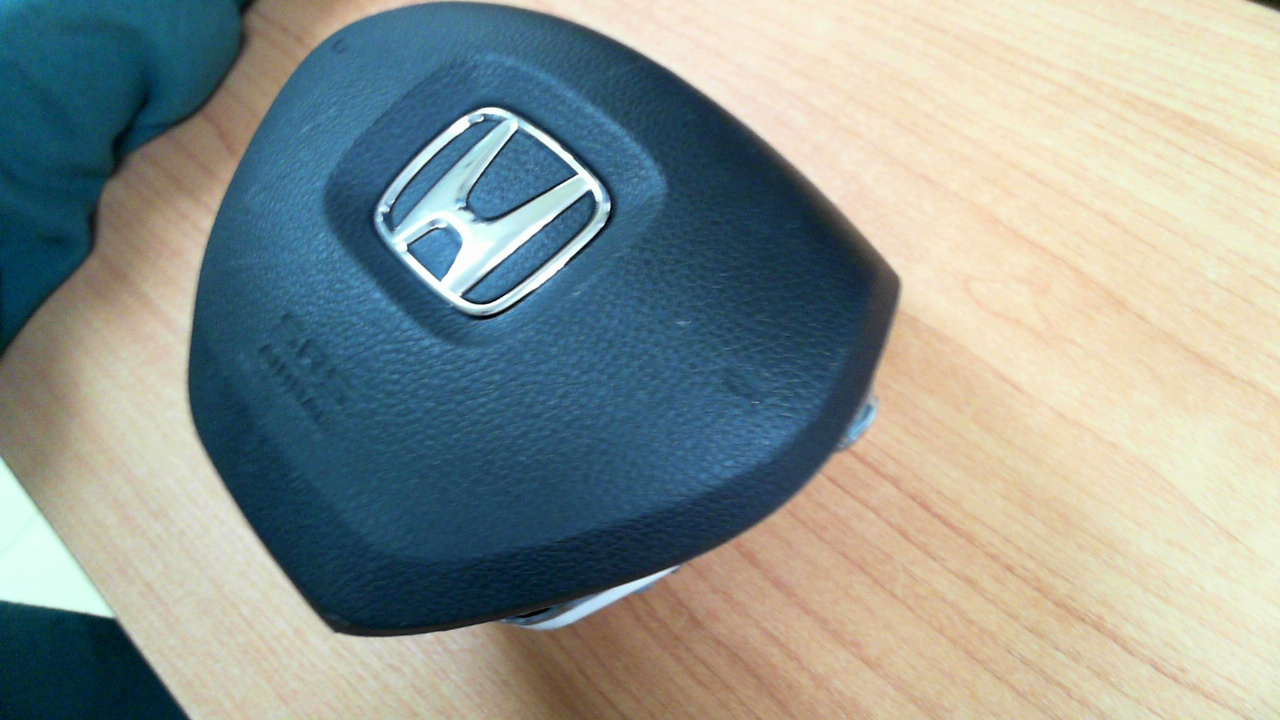Airbag: (185, 2, 902, 638)
Honda: (374, 107, 611, 316)
